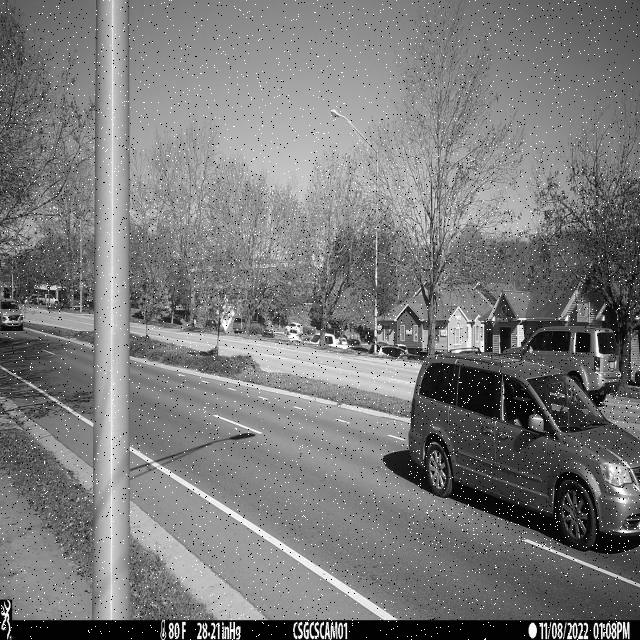Van: (408, 346, 640, 552)
